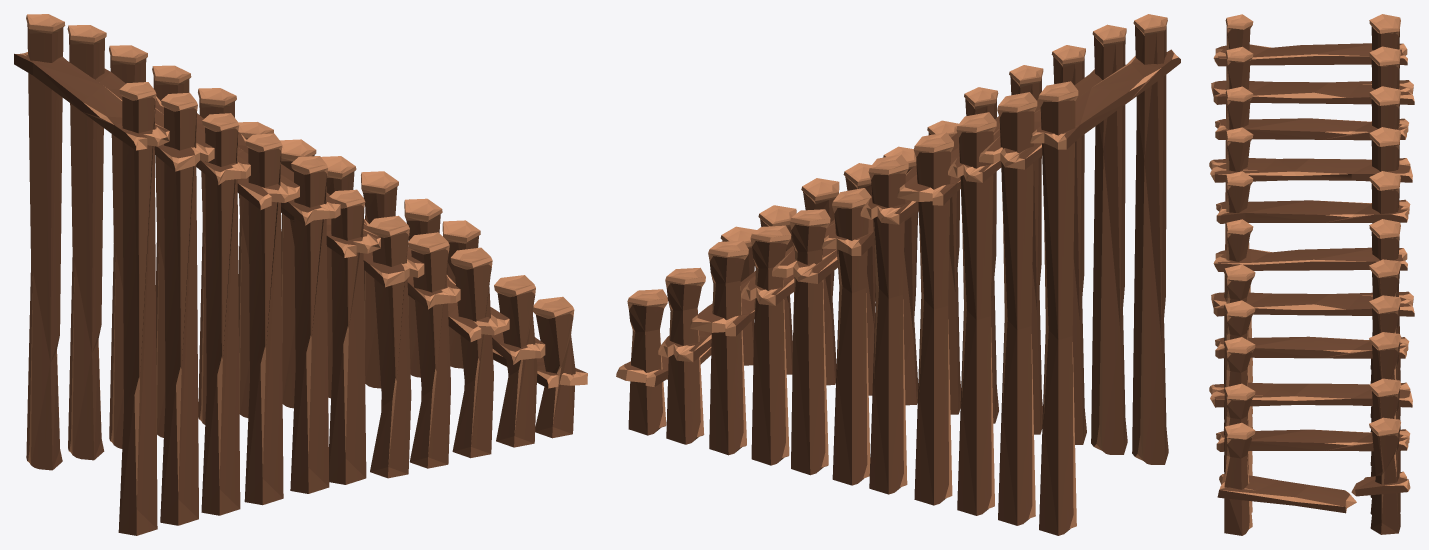
Rendered from Merdiven  Alternatif.fbx.
3 renders of one model, left to right at view 1: azimuth 30°, elevation 25°; view 2: azimuth 150°, elevation 25°; view 3: azimuth 270°, elevation 25°, orthographic. The views are drawn at different scales.
Visible parts, largest first — view 1: Timber_Bridge_01.002; view 2: Timber_Bridge_01.002; view 3: Timber_Bridge_01.002.
Boxes of the visible parts, x1=… form: Timber_Bridge_01.002: x1=14, y1=14, x2=587, y2=535; Timber_Bridge_01.002: x1=616, y1=14, x2=1180, y2=535; Timber_Bridge_01.002: x1=1209, y1=14, x2=1414, y2=535.
Size of the model in its own units: 313 by 291 by 155.
